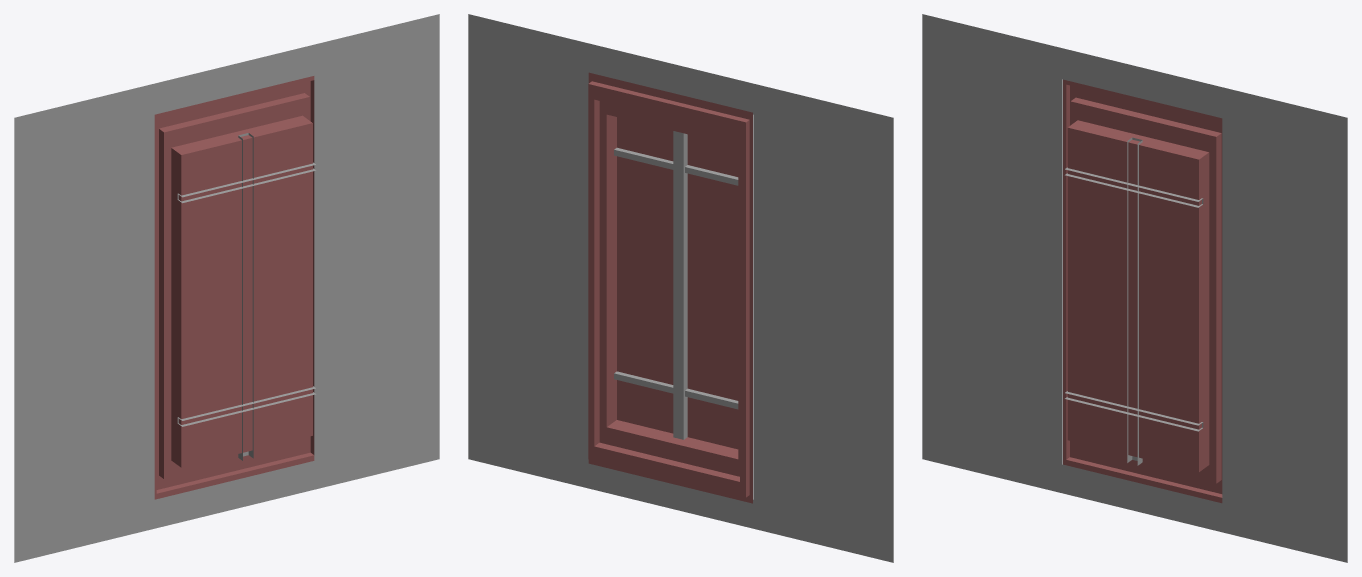
The model's file is 3x3OldLargeWindow2.fbx.
3 renders of one model, left to right at view 1: azimuth 30°, elevation 25°; view 2: azimuth 150°, elevation 25°; view 3: azimuth 330°, elevation 25°, orthographic.
Visible parts, largest first — view 1: pCube62; view 2: pCube62; view 3: pCube62.
Boxes of the visible parts, x1,y1,x2,y2 form: pCube62: (14,14,439,562); pCube62: (468,14,893,562); pCube62: (922,14,1347,562).
Size of the model in its own units: 3 by 3 by 0.2131.
